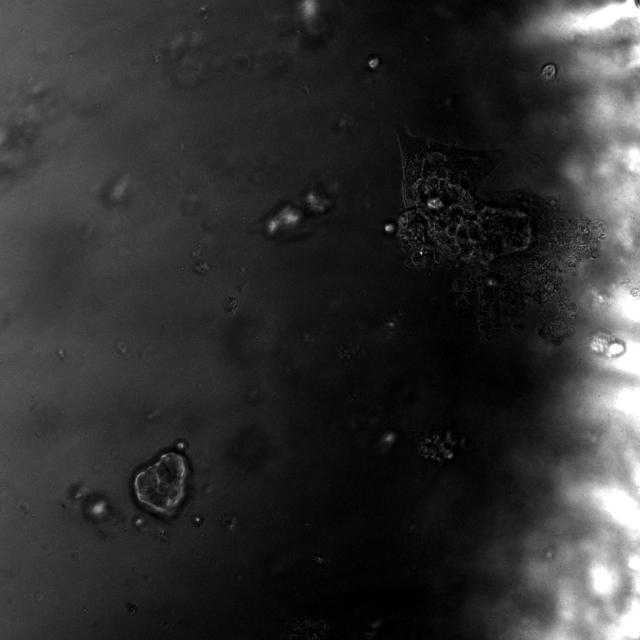organoid: (395, 132, 607, 345), (131, 438, 192, 518), (417, 431, 462, 464), (540, 63, 557, 81)
